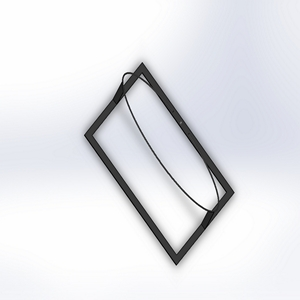circle: (82, 62, 235, 265)
